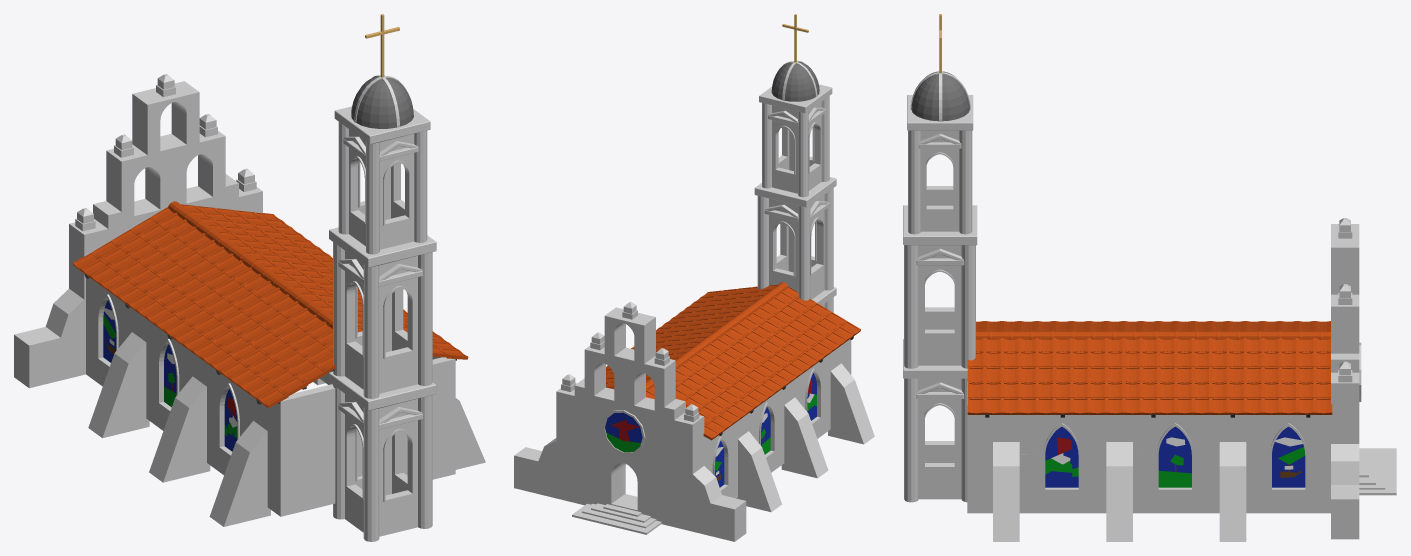
Rendered from Chapel Level 4.fbx.
The picture shows the model from 3 angles, left to right: view 1: azimuth 30°, elevation 25°; view 2: azimuth 150°, elevation 25°; view 3: azimuth 270°, elevation 25°; orthographic projection. The views are drawn at different scales.
Parts seen in each view (by area): view 1: Chapel_2_2_2_17, Chapel_2_2_2_19, Chapel_3_2_2_13, Chapel_3_2_2_19, Chapel_3_2_2_17, Chapel_2_2_2_20, Chapel_2_1_2_31, Chapel_3_2_1_11, Chapel_3_2_1_15, Chapel_3_1_1_22, Chapel_2_2_2_24, Chapel_3_1_1_13 (+36 smaller); view 2: Chapel_3_2_2_16, Chapel_3_2_2_19, Chapel_3_2_2_13, Chapel_3_2_2_17, Chapel_3_2_1_15, Chapel_3_1_2_20, Chapel_3_1_1_16, Chapel_3_1_2_18, Chapel_3_2_1_11, Chapel_3_1_2_9, Chapel_3_2_1_16, Chapel_5_2_2_4 (+21 smaller); view 3: Chapel_1_1_2_10, Chapel_2_1_1_22, Chapel_2_1_1_14, Chapel_2_1_2_31, Chapel_1_1_2_4, Chapel_1_1_2_25, Chapel_1_1_2_5, Chapel_2_1_1_17, Chapel_3_1_2_20, Chapel_3_1_2_17, Chapel_3_1_1_15, Chapel_3_1_1_22 (+28 smaller).
Boxes of the visible parts, x1,y1,x2,y2 form: Chapel_2_2_2_17: [267, 396, 312, 453]; Chapel_2_2_2_19: [280, 476, 322, 516]; Chapel_3_2_2_13: [14, 347, 68, 388]; Chapel_3_2_2_19: [45, 294, 85, 337]; Chapel_3_2_2_17: [14, 327, 60, 364]; Chapel_2_2_2_20: [280, 446, 317, 484]; Chapel_2_1_2_31: [432, 356, 455, 416]; Chapel_3_2_1_11: [93, 196, 138, 228]; Chapel_3_2_1_15: [69, 219, 107, 261]; Chapel_3_1_1_22: [171, 81, 199, 123]; Chapel_2_2_2_24: [310, 384, 335, 445]; Chapel_3_1_1_13: [144, 179, 186, 211]; Chapel_3_2_2_16: [665, 442, 708, 478]; Chapel_3_2_2_19: [682, 470, 721, 503]; Chapel_3_2_2_13: [704, 511, 746, 541]; Chapel_3_2_2_17: [710, 495, 746, 523]; Chapel_3_2_1_15: [674, 412, 704, 449]; Chapel_3_1_2_20: [514, 447, 549, 470]; Chapel_3_1_1_16: [584, 386, 614, 413]; Chapel_3_1_2_18: [584, 458, 607, 486]; Chapel_3_2_1_11: [653, 395, 685, 420]; Chapel_3_1_2_9: [557, 455, 584, 486]; Chapel_3_2_1_16: [641, 425, 672, 453]; Chapel_5_2_2_4: [784, 75, 815, 101]; Chapel_1_1_2_10: [1286, 415, 1330, 455]; Chapel_2_1_1_22: [1078, 415, 1141, 439]; Chapel_2_1_1_14: [1061, 483, 1101, 513]; Chapel_2_1_2_31: [967, 401, 1000, 454]; Chapel_1_1_2_4: [1258, 483, 1301, 513]; Chapel_1_1_2_25: [1247, 415, 1286, 454]; Chapel_1_1_2_5: [1290, 483, 1330, 513]; Chapel_2_1_1_17: [968, 487, 1061, 513]; Chapel_3_1_2_20: [1331, 472, 1359, 506]; Chapel_3_1_2_17: [1331, 506, 1359, 539]; Chapel_3_1_1_15: [1331, 353, 1359, 394]; Chapel_3_1_1_22: [1331, 237, 1359, 272].
Bounding box in the file's own units: 16.5 × 27.62 × 26.11.
